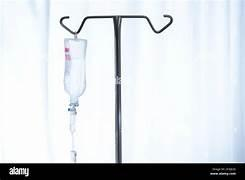Iv_Bottle: (64, 38, 86, 104)
